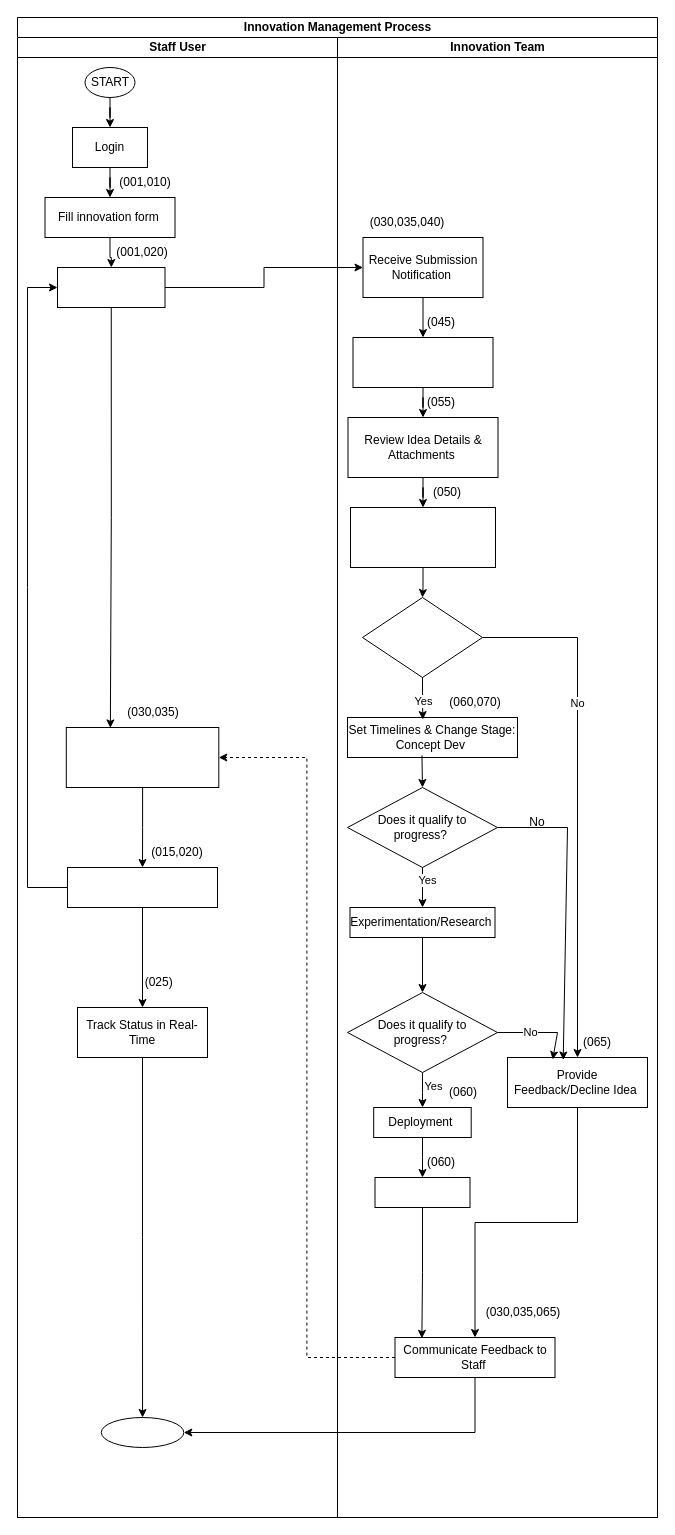
Image size: 675x1535. Some labels were removed from this diagram. The centre of each missing label's shape, as x and y in pixels:
Close Idea: (422,1192)
Edit/Retract Own Idea if Needed: (142,887)
END: (142,1432)
Manage Categories & Resources: (423,537)
Receive Email/System Notification: (142,757)
Select & Approve Idea?: (422,637)
Sort and Filter Submissions: (422,362)
Submit form: (110,287)
